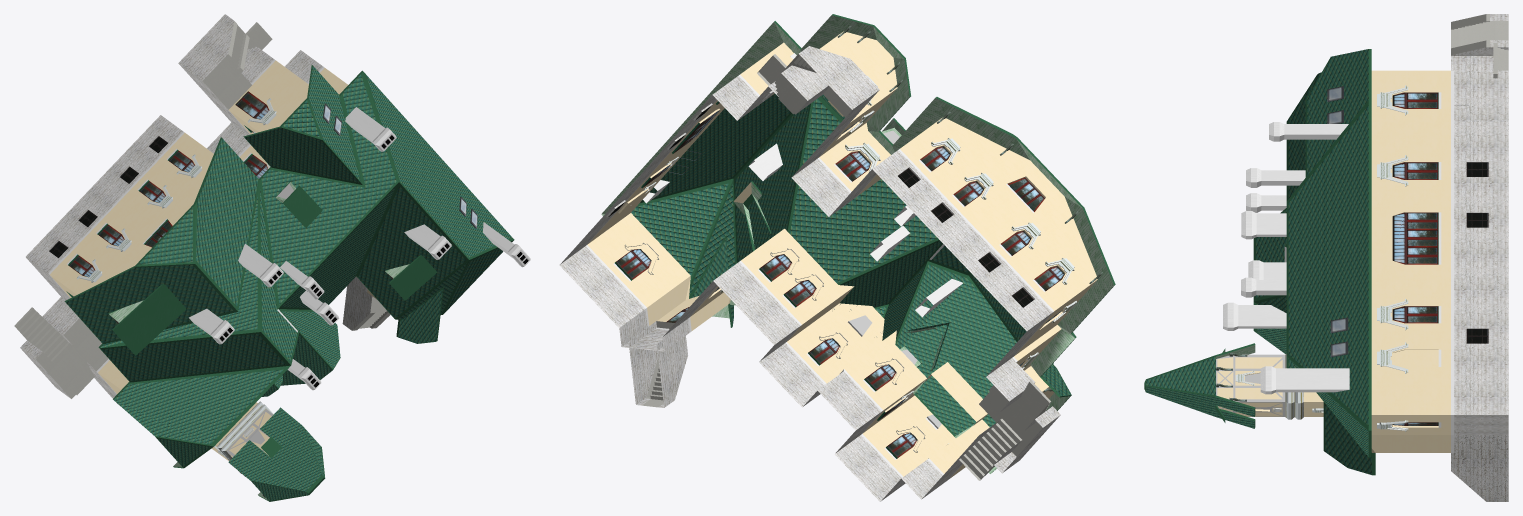
The model's file is Rannamae_tee_3a.obj.
The picture shows the model from 3 angles, left to right: view 1: azimuth 30°, elevation 25°; view 2: azimuth 150°, elevation 25°; view 3: azimuth 270°, elevation 25°; orthographic projection. The views are drawn at different scales.
Visible parts, largest first — view 1: Rannamae_tee_3a; view 2: Rannamae_tee_3a; view 3: Rannamae_tee_3a.
Part boxes in pixels (left/top/right/bottom): Rannamae_tee_3a: left=14, top=14, right=530, bottom=501; Rannamae_tee_3a: left=559, top=14, right=1115, bottom=501; Rannamae_tee_3a: left=1144, top=14, right=1508, bottom=501.
Size of the model in its own units: 33.67 by 27.65 by 19.96.
